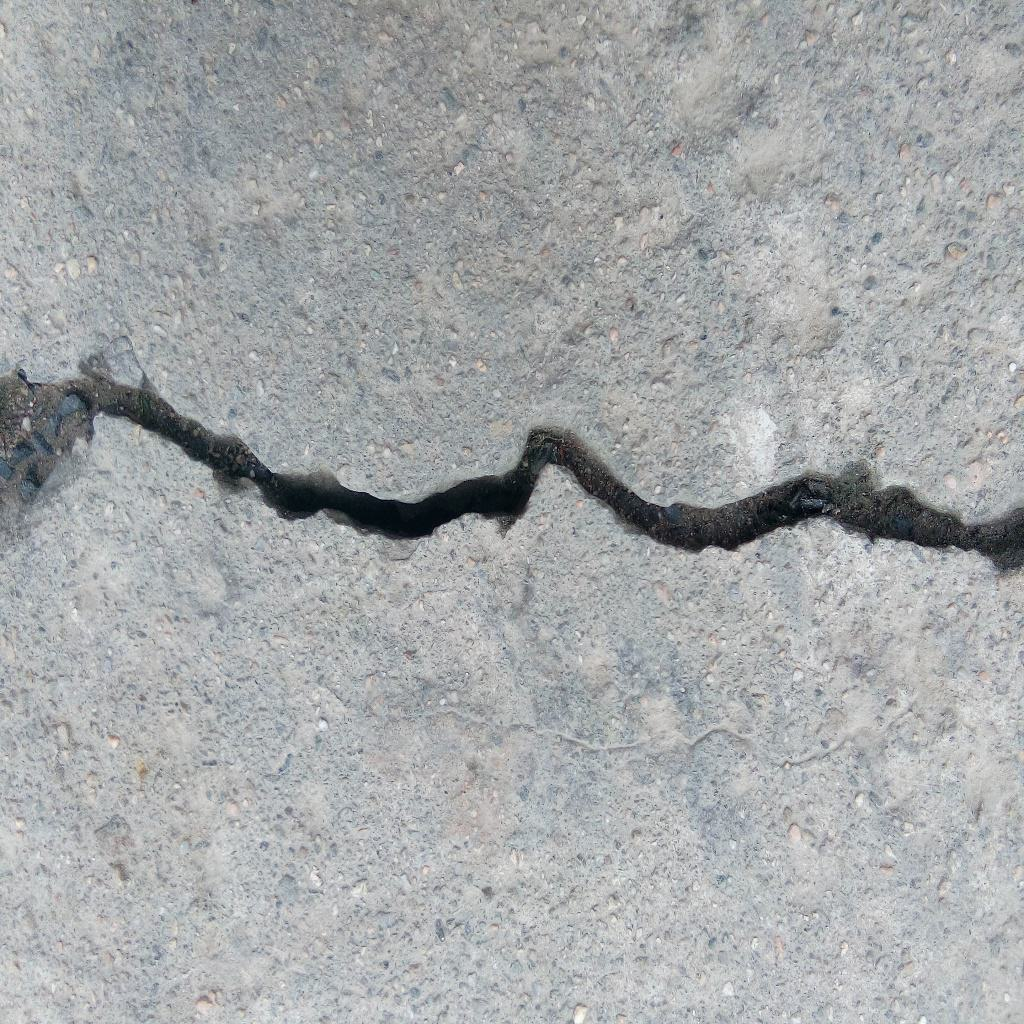Crack: (95, 376, 1024, 573)
Spalling: (1, 366, 95, 509)
